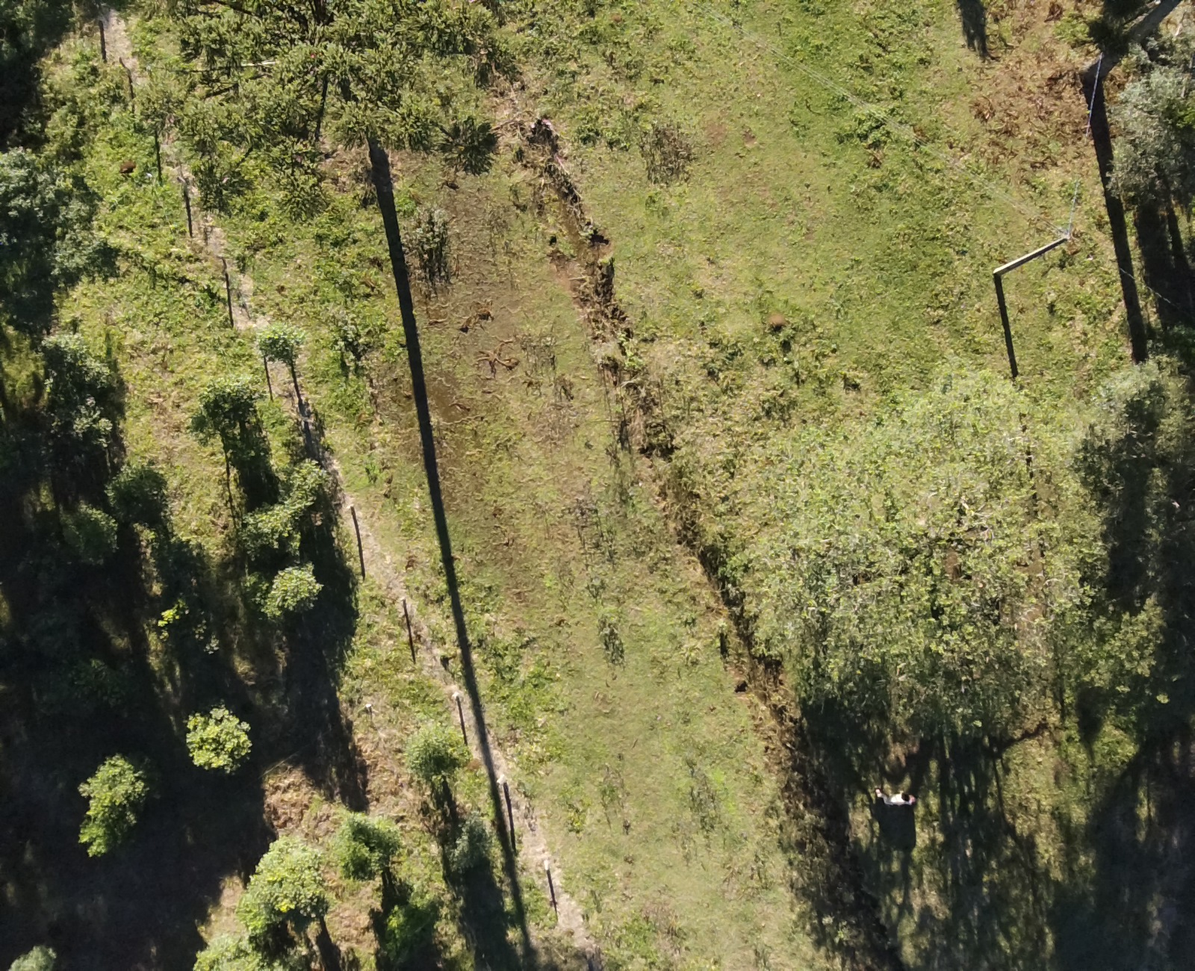erva: (232, 845, 331, 933), (177, 696, 259, 772), (74, 753, 149, 826), (408, 723, 476, 791), (191, 376, 262, 435), (261, 559, 323, 622), (338, 808, 403, 865), (288, 447, 337, 521), (264, 321, 320, 378), (251, 500, 308, 547), (444, 816, 497, 865), (77, 815, 125, 866)
